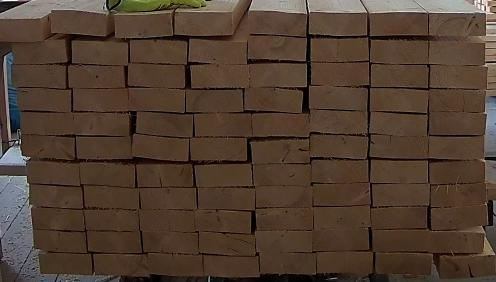Wood-Plank: (50, 10, 107, 37), (251, 138, 310, 164), (373, 230, 433, 255), (311, 37, 370, 62), (369, 12, 428, 37), (248, 10, 307, 35), (245, 87, 302, 112), (190, 64, 249, 88), (430, 135, 486, 160), (439, 255, 495, 280), (371, 40, 429, 64), (189, 40, 247, 64), (312, 62, 370, 86), (428, 13, 488, 36), (130, 40, 187, 64), (250, 63, 307, 87), (372, 64, 429, 88), (371, 88, 428, 112), (311, 110, 368, 134), (194, 113, 251, 137), (136, 112, 193, 136), (76, 136, 133, 160), (430, 160, 486, 184), (432, 206, 488, 230), (133, 136, 189, 160), (73, 88, 129, 112), (68, 65, 126, 88), (310, 87, 368, 110), (195, 164, 253, 187), (129, 88, 184, 112), (84, 186, 139, 210), (249, 37, 306, 60), (128, 65, 185, 88), (373, 184, 430, 207), (372, 160, 429, 183), (312, 160, 369, 183), (252, 114, 309, 137), (190, 138, 247, 161), (114, 14, 173, 36), (138, 164, 192, 188), (80, 164, 134, 188), (33, 230, 87, 254), (431, 65, 487, 88), (430, 112, 486, 135), (315, 207, 371, 230), (256, 208, 312, 231), (73, 113, 129, 136), (175, 12, 231, 35), (370, 114, 428, 136), (198, 188, 256, 210), (139, 188, 197, 210), (308, 11, 366, 33), (432, 40, 485, 64), (432, 184, 487, 207), (371, 136, 428, 158), (311, 136, 368, 158), (314, 184, 371, 206), (313, 230, 370, 252), (317, 252, 374, 274), (260, 253, 317, 275), (256, 186, 313, 208), (186, 90, 243, 112), (195, 212, 252, 234), (13, 64, 65, 88), (22, 136, 74, 160), (17, 89, 71, 112), (430, 90, 486, 112), (372, 207, 428, 229), (254, 164, 310, 186), (204, 256, 260, 278), (27, 163, 80, 186), (429, 232, 482, 255), (199, 234, 254, 256), (87, 232, 142, 254), (31, 208, 85, 230), (71, 41, 125, 63), (142, 233, 198, 254), (139, 211, 195, 232), (29, 186, 82, 208), (84, 210, 139, 231), (21, 112, 73, 134), (148, 255, 202, 276), (376, 254, 432, 274), (0, 17, 41, 44), (257, 232, 312, 252), (93, 255, 146, 275), (12, 43, 67, 62), (39, 254, 91, 274)
